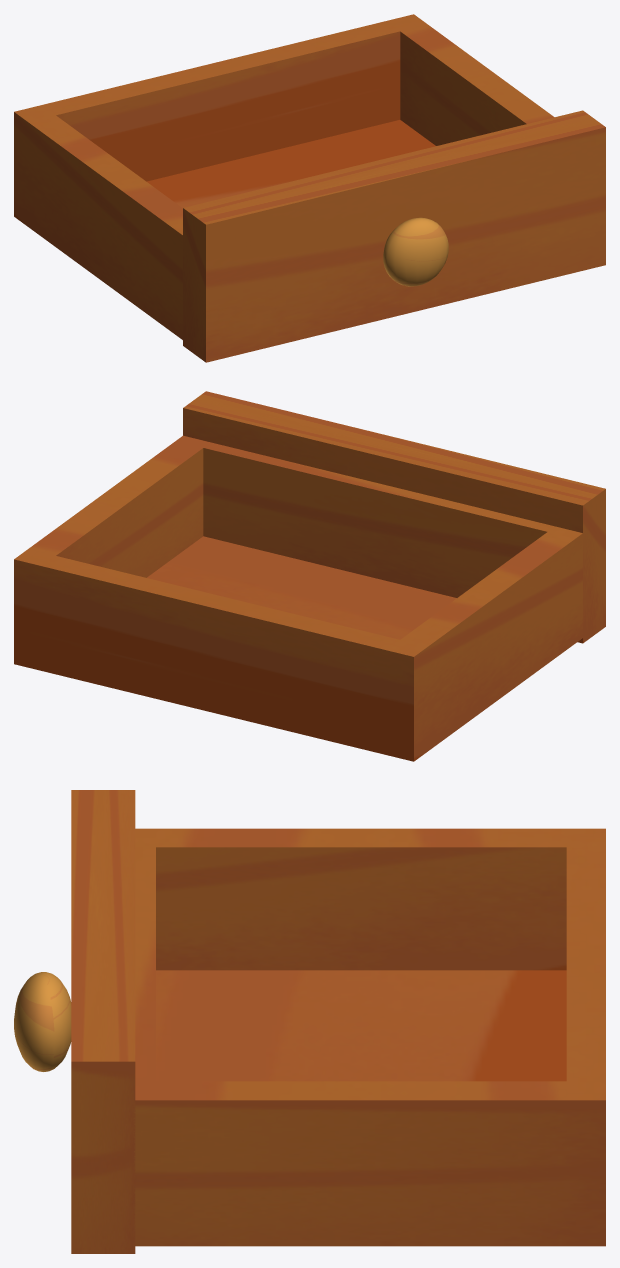
The model's file is Cajon.obj.
3 views of the same model, one above another, from view 1: azimuth 30°, elevation 25°; view 2: azimuth 150°, elevation 25°; view 3: azimuth 270°, elevation 25° (orthographic). The views are drawn at different scales.
Visible parts, largest first — view 1: Cajonera_Cajon_pCube16, Cajonera_Cajon_pCube4, pSphere5; view 2: Cajonera_Cajon_pCube16, Cajonera_Cajon_pCube4; view 3: Cajonera_Cajon_pCube16, Cajonera_Cajon_pCube4, pSphere5.
Boxes of the visible parts, box(x1,y1,x2,y2) form: Cajonera_Cajon_pCube16: box(14, 14, 554, 339); Cajonera_Cajon_pCube4: box(183, 110, 605, 362); pSphere5: box(383, 217, 448, 286); Cajonera_Cajon_pCube16: box(14, 435, 582, 761); Cajonera_Cajon_pCube4: box(183, 391, 605, 643); Cajonera_Cajon_pCube16: box(133, 828, 605, 1246); Cajonera_Cajon_pCube4: box(71, 790, 135, 1253); pSphere5: box(14, 972, 71, 1071).
Size of the model in its own units: 0.7179 by 0.2366 by 0.661.
2 materials, 2 textured.
